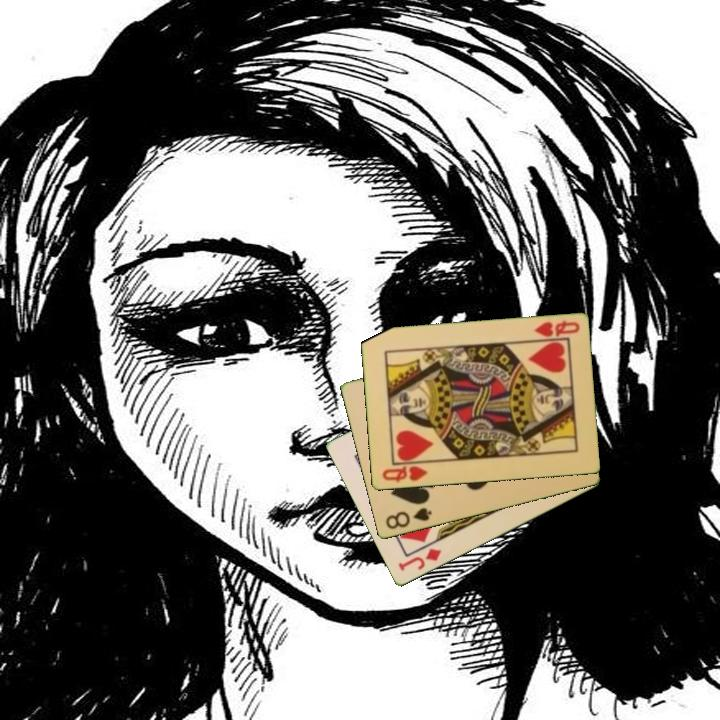8s: (382, 504, 435, 532)
Jd: (395, 545, 444, 574)
Qh: (379, 463, 430, 485), (531, 318, 582, 340)
